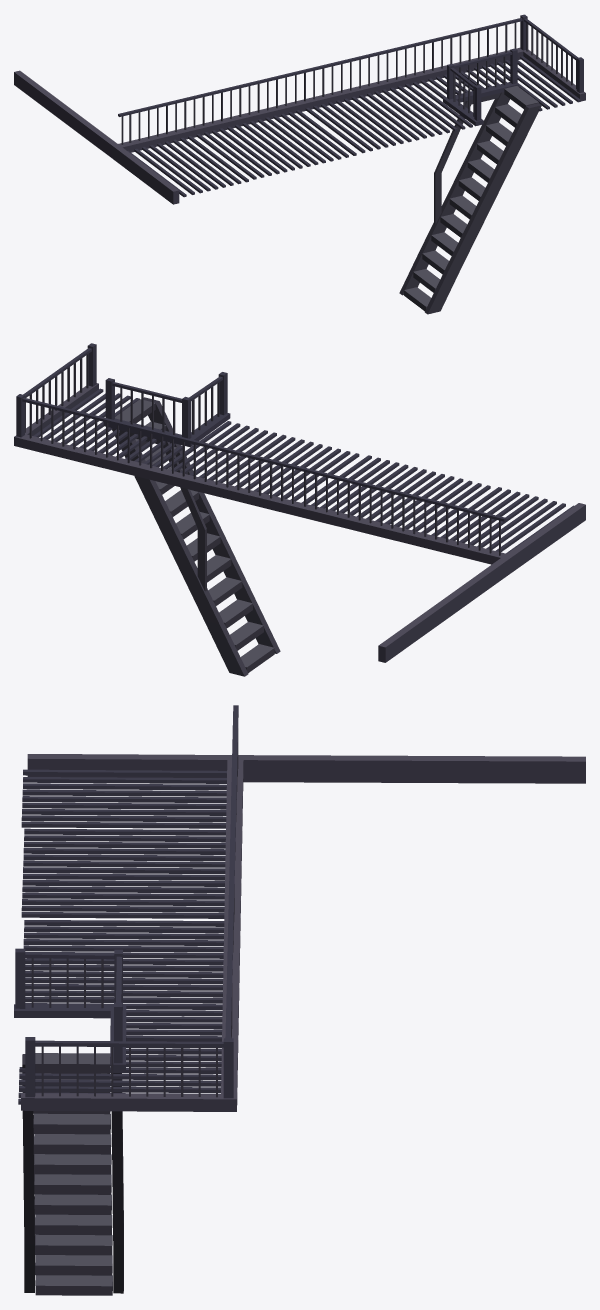
The model's file is CMF3Stairs.fbx.
3 renders of one model, top to bottom at view 1: azimuth 30°, elevation 25°; view 2: azimuth 150°, elevation 25°; view 3: azimuth 270°, elevation 25°, orthographic. The views are drawn at different scales.
Parts seen in each view (by area): view 1: BalconyBottom.013, BalconyBottom.012, StairSides.005, BalconyRailing.039, Stair, BalconyRailing.088, BalconyRailing.040, BalconyRailing.087; view 2: BalconyBottom.013, BalconyBottom.012, StairSides.005, BalconyRailing.039, Stair, BalconyRailing.088, BalconyRailing.040, BalconyRailing.087; view 3: BalconyBottom.013, BalconyBottom.012, Stair, StairSides.005, BalconyRailing.040, BalconyRailing.087, BalconyRailing.039, BalconyRailing.088.
Boxes of the visible parts, x1,y1,x2,y2 form: BalconyBottom.013: (127,56,580,197); BalconyBottom.012: (14,47,585,204); StairSides.005: (399,92,541,314); BalconyRailing.039: (118,18,522,144); Stair: (404,86,538,311); BalconyRailing.088: (443,48,519,105); BalconyRailing.040: (520,14,583,92); BalconyRailing.087: (447,67,483,126); BalconyBottom.013: (33,388,573,553); BalconyBottom.012: (14,383,585,662); StairSides.005: (112,397,280,676); BalconyRailing.039: (22,397,506,555); Stair: (115,399,274,672); BalconyRailing.088: (103,378,195,447); BalconyRailing.040: (16,343,96,437); BalconyRailing.087: (189,372,230,440); BalconyBottom.013: (18,769,226,1104); BalconyBottom.012: (21,754,585,1111); Stair: (33,1053,112,1295); StairSides.005: (22,1054,123,1293); BalconyRailing.040: (25,1037,233,1098); BalconyRailing.087: (14,948,114,1018); BalconyRailing.039: (225,705,238,1038); BalconyRailing.088: (110,949,126,1071).
Bounding box in the file's own units: 2249 × 1134 × 1573.
